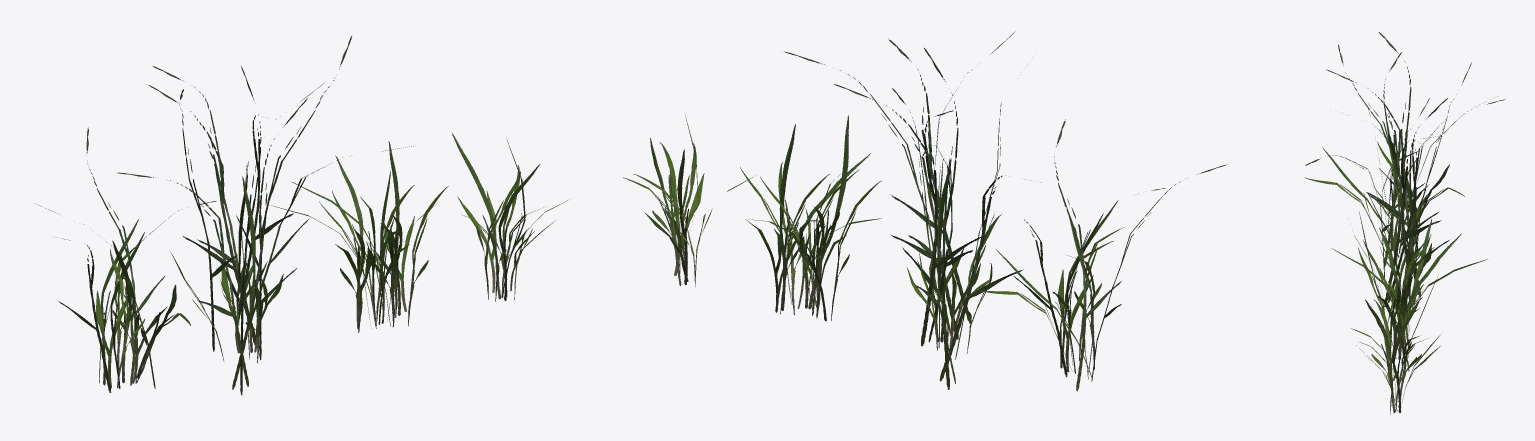
Rendered from grass.glb.
3 renders of one model, left to right at view 1: azimuth 30°, elevation 25°; view 2: azimuth 150°, elevation 25°; view 3: azimuth 270°, elevation 25°, orthographic. The views are drawn at different scales.
Parts seen in each view (by area): view 1: grass; view 2: grass; view 3: grass.
Part boxes in pixels (left/top/right/bottom): grass: left=34, top=36, right=567, bottom=395; grass: left=623, top=31, right=1226, bottom=391; grass: left=1305, top=32, right=1505, bottom=414.
Bounding box in the file's own units: 6.36 × 3.98 × 2.92.
1 material, 1 textured.
